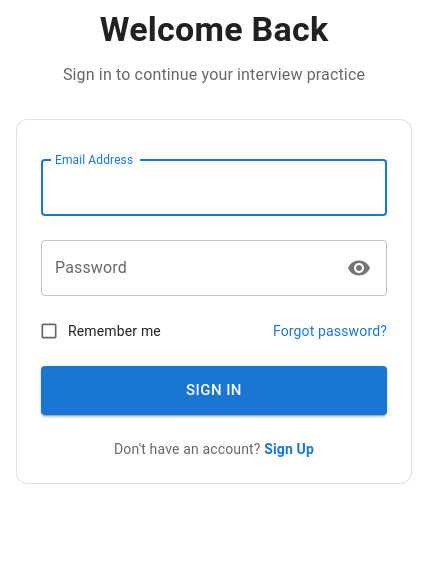
Scenario: Login Component › Error Handling › shows generic error message for other errors
In the field labelled "Email Address": (214, 188) x1=41 y1=160 x2=387 y2=216, type "john@example.com"
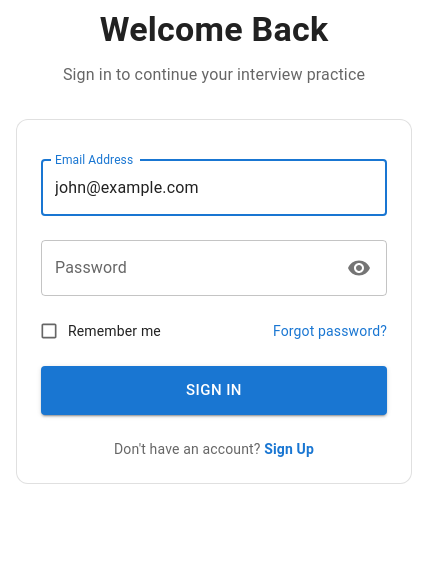
In the password field labelled "Password": (188, 268) x1=41 y1=240 x2=334 y2=296, type "Password123"
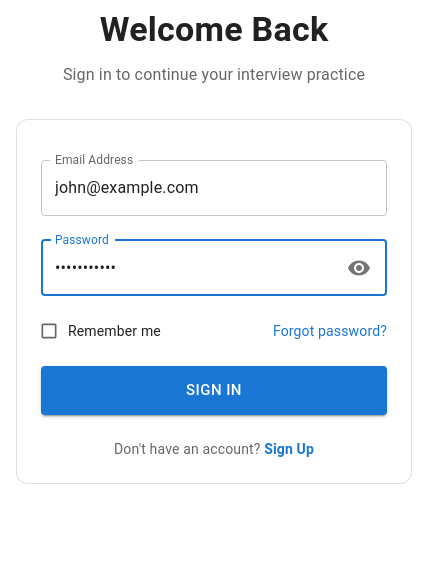
Click the button "Sign In": (214, 390) x1=41 y1=366 x2=387 y2=414
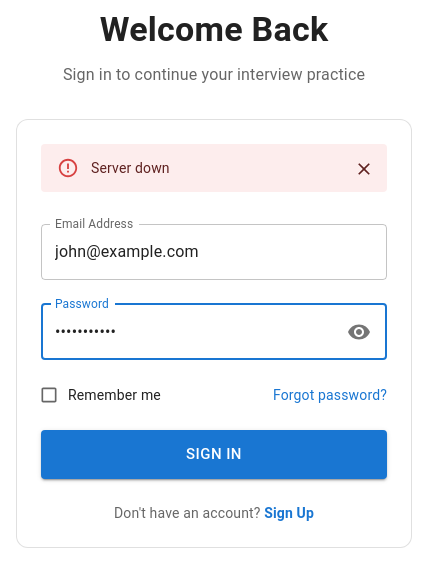
Expected: the text "Server down" is shown, x1=91 y1=160 x2=170 y2=176
